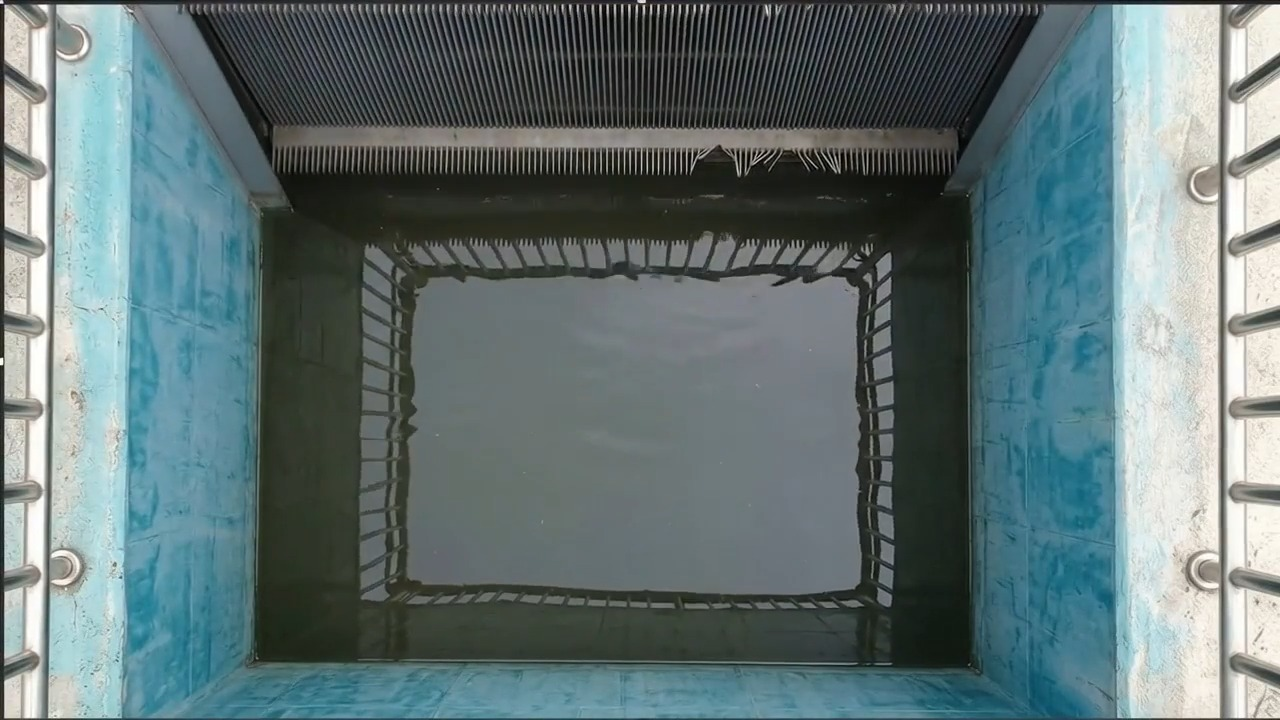damage: (687, 141, 845, 179)
